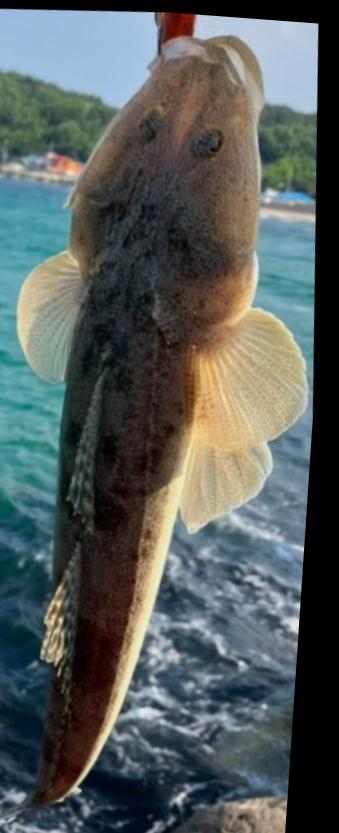fish: (21, 29, 311, 808)
